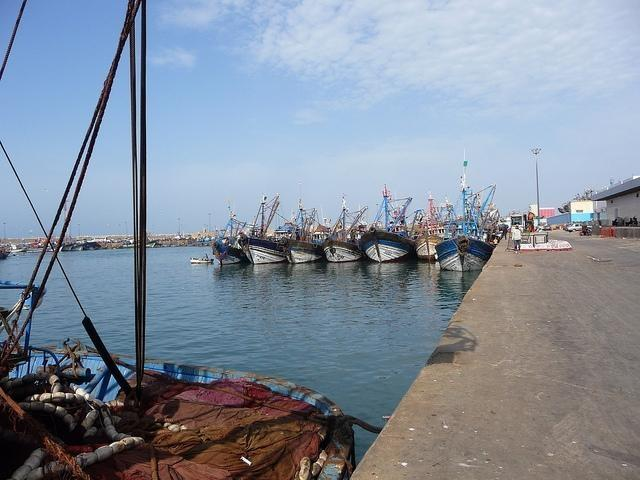car: (564, 223, 592, 232)
